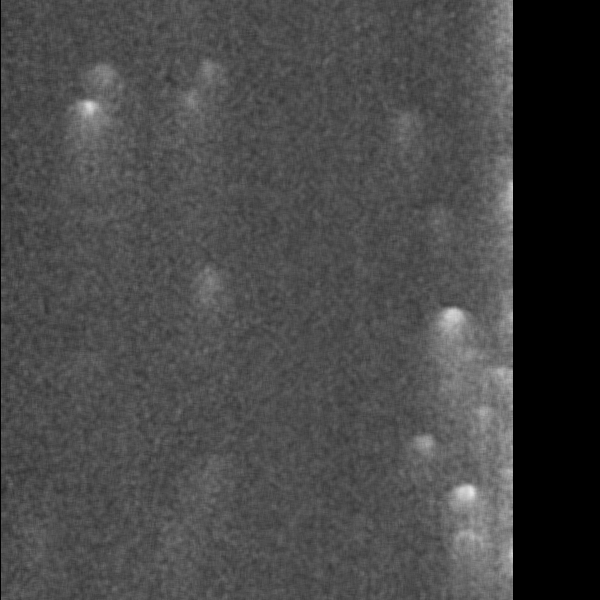spark: (212, 361, 259, 471), (206, 5, 247, 37)
